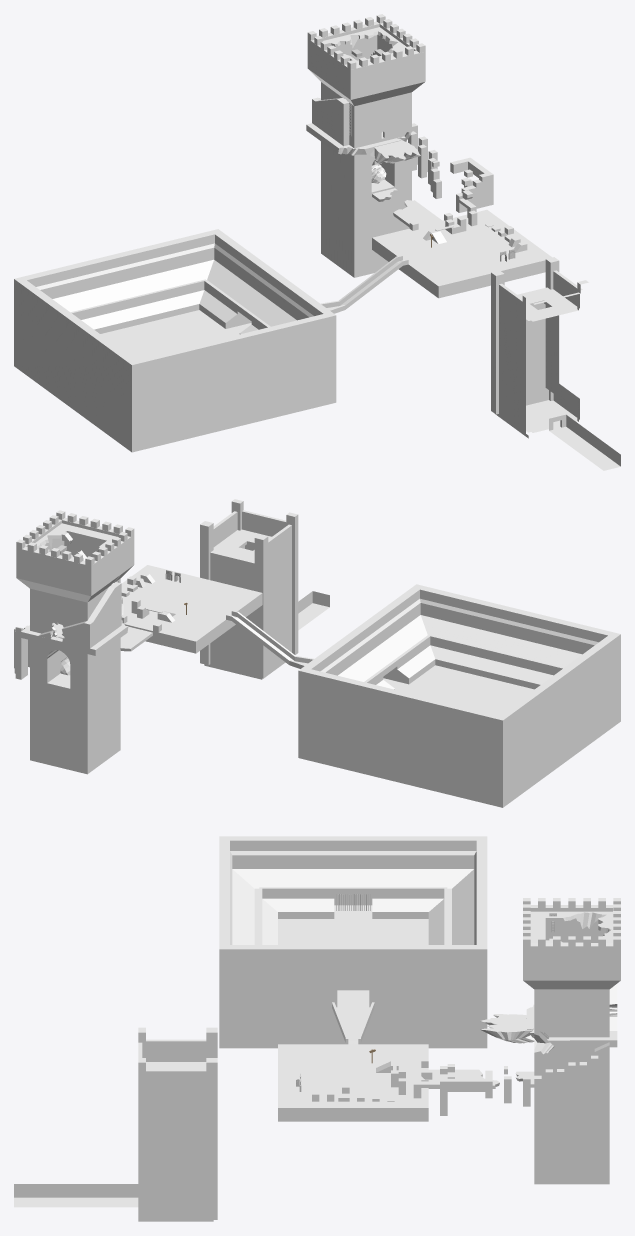
The model's file is testmap_collider.glb.
3 renders of one model, top to bottom at view 1: azimuth 30°, elevation 25°; view 2: azimuth 150°, elevation 25°; view 3: azimuth 270°, elevation 25°, orthographic. The views are drawn at different scales.
Visible parts, largest first — view 1: Stairs, ADD[0]9, LevelGeometry, ADD[0]10, ADD[0]8, ADD[0]9.001, ADD[0]26, Tower Jumping Platform, ADD[0]25; view 2: Stairs, ADD[0]9, LevelGeometry, ADD[0]10, ADD[0]9.001, ADD[0]26, ADD[0]25; view 3: Stairs, ADD[0]9, LevelGeometry, ADD[0]10, ADD[0]26, ADD[0]8, Tower Jumping Platform.
Part boxes in pixels (bbox=[...]): Stairs: bbox=[14, 229, 408, 452]; ADD[0]9: bbox=[306, 14, 425, 277]; LevelGeometry: bbox=[491, 257, 620, 470]; ADD[0]10: bbox=[372, 209, 551, 298]; ADD[0]8: bbox=[450, 157, 493, 231]; ADD[0]9.001: bbox=[312, 97, 349, 146]; ADD[0]26: bbox=[406, 123, 441, 198]; Tower Jumping Platform: bbox=[370, 138, 420, 163]; ADD[0]25: bbox=[393, 200, 441, 227]; Stairs: bbox=[226, 584, 620, 807]; ADD[0]9: bbox=[16, 510, 134, 774]; LevelGeometry: bbox=[200, 499, 329, 679]; ADD[0]10: bbox=[121, 565, 262, 653]; ADD[0]9.001: bbox=[38, 582, 121, 648]; ADD[0]26: bbox=[14, 625, 29, 679]; ADD[0]25: bbox=[120, 626, 152, 651]; Stairs: bbox=[219, 836, 487, 1048]; ADD[0]9: bbox=[515, 898, 620, 1184]; LevelGeometry: bbox=[14, 1027, 217, 1221]; ADD[0]10: bbox=[278, 1044, 428, 1121]; ADD[0]26: bbox=[485, 1042, 609, 1109]; ADD[0]8: bbox=[391, 1064, 492, 1115]; Tower Jumping Platform: bbox=[480, 1014, 534, 1043].
Size of what is drawn, in the model's own units: 160 by 84.01 by 161.
4 materials, 2 textured.
